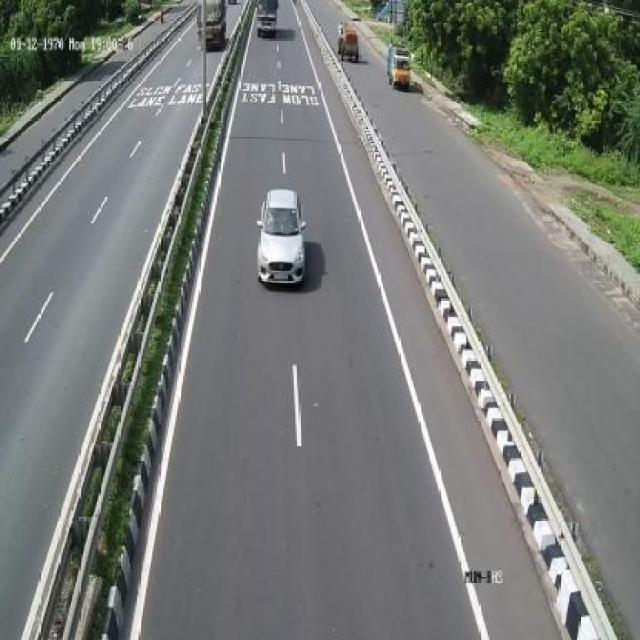car: (258, 185, 311, 289), (389, 46, 417, 89)
